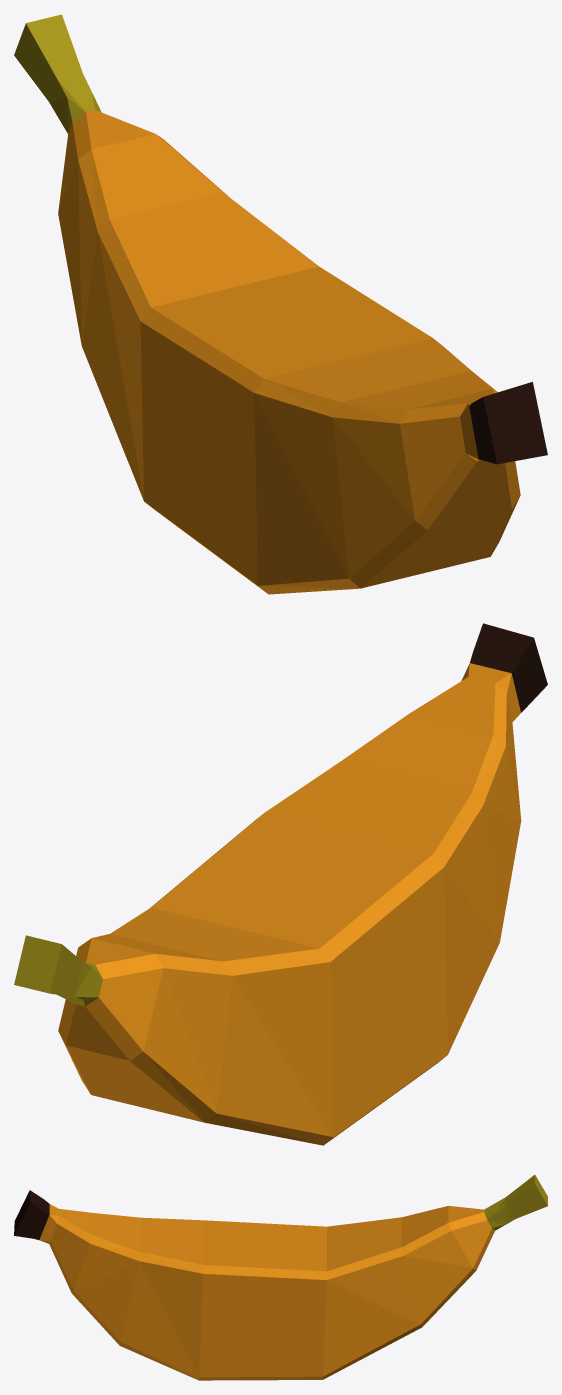
The model's file is Banaan_Model.FBX.
3 renders of one model, top to bottom at view 1: azimuth 30°, elevation 25°; view 2: azimuth 150°, elevation 25°; view 3: azimuth 270°, elevation 25°, orthographic. The views are drawn at different scales.
Parts seen in each view (by area): view 1: Banaan_model; view 2: Banaan_model; view 3: Banaan_model.
Part boxes in pixels (left/top/right/bottom): Banaan_model: left=14, top=14, right=547, bottom=594; Banaan_model: left=14, top=623, right=547, bottom=1145; Banaan_model: left=14, top=1175, right=547, bottom=1380.
Bounding box in the file's own units: 1023 × 4589 × 1697.
